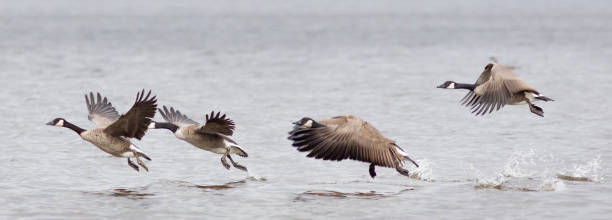goose: (44, 87, 155, 181), (287, 111, 422, 184), (435, 54, 557, 124), (140, 105, 252, 175)
